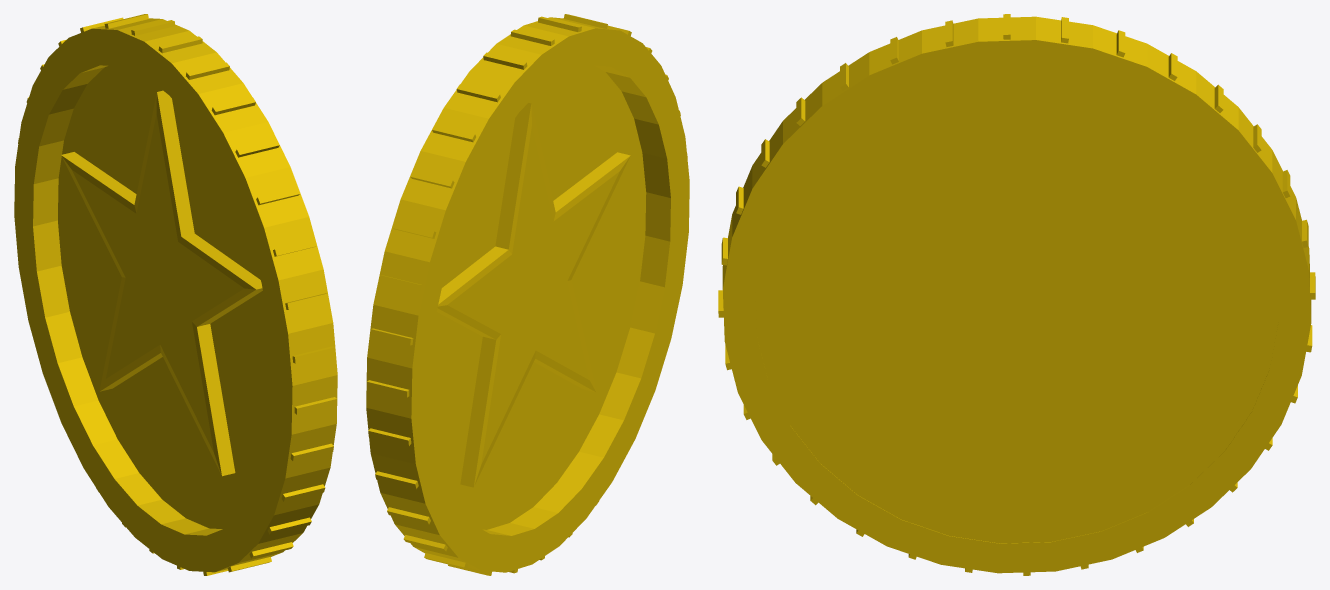
Rendered from gold_coin.glb.
The picture shows the model from 3 angles, left to right: view 1: azimuth 30°, elevation 25°; view 2: azimuth 150°, elevation 25°; view 3: azimuth 270°, elevation 25°; orthographic projection. The views are drawn at different scales.
Visible parts, largest first — view 1: Object_2; view 2: Object_2; view 3: Object_2.
Part boxes in pixels (box(x1,y1,x2,y2)): Object_2: box(14, 14, 337, 575); Object_2: box(366, 14, 689, 575); Object_2: box(718, 14, 1315, 575).
Size of the model in its own units: 0.1873 by 2.03 by 2.03.
